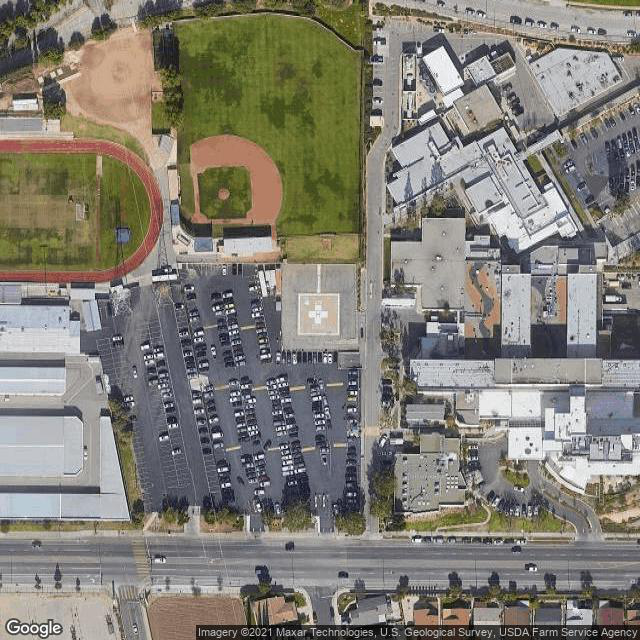Helipad: (297, 292, 339, 333)
